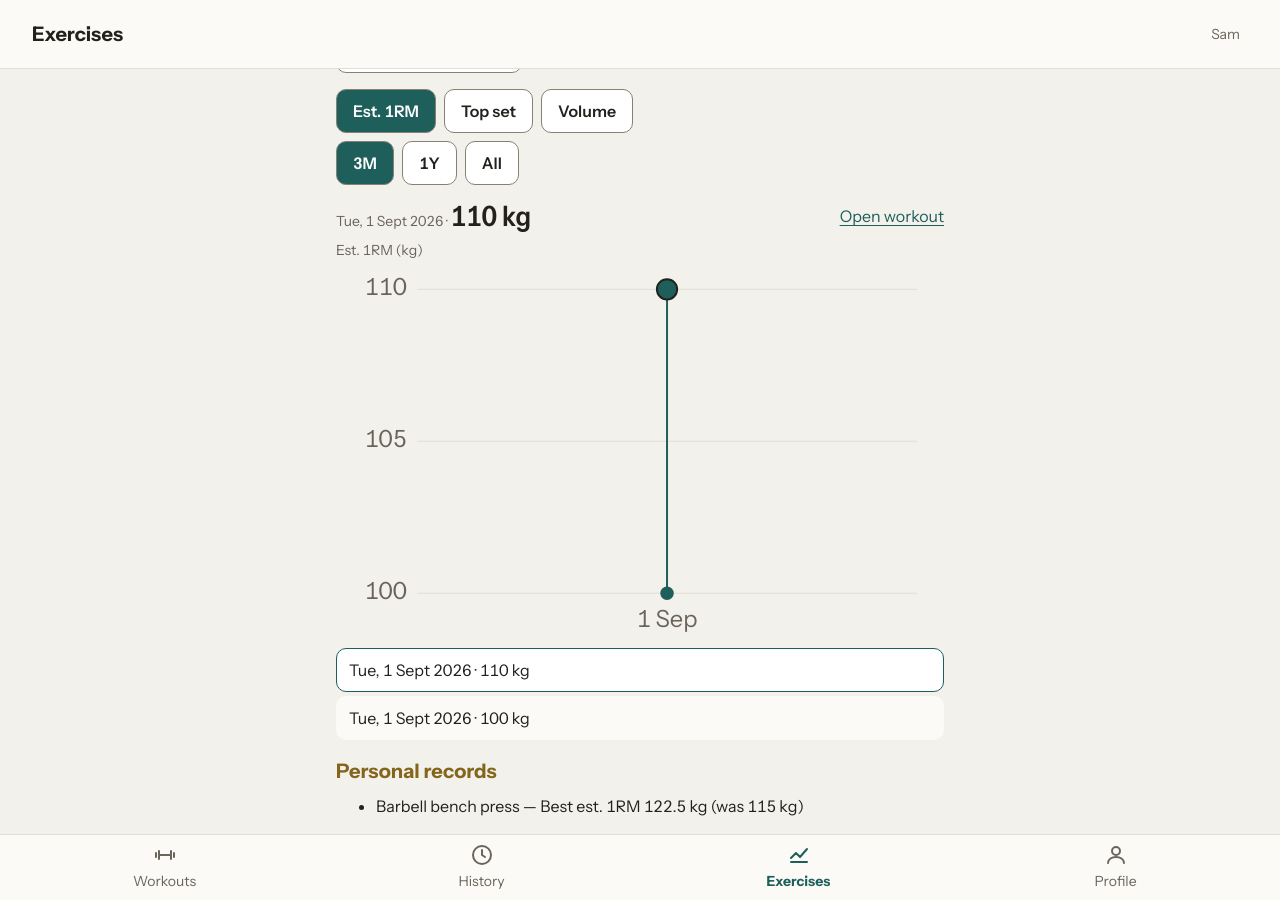
it: 08.1 AC18 / 18.2 AC23 — the sessions list › two sessions on the same date are both listed and selectable (Review Focus 2)
This screenshot has width=1280, height=900.
(page scrolled)
Expected: the picture named "3 months" is shown, [336, 269, 944, 640]
Click the button "Tue, 1 Sept 2026 · 100 kg" at (410, 718), box [336, 696, 944, 740]
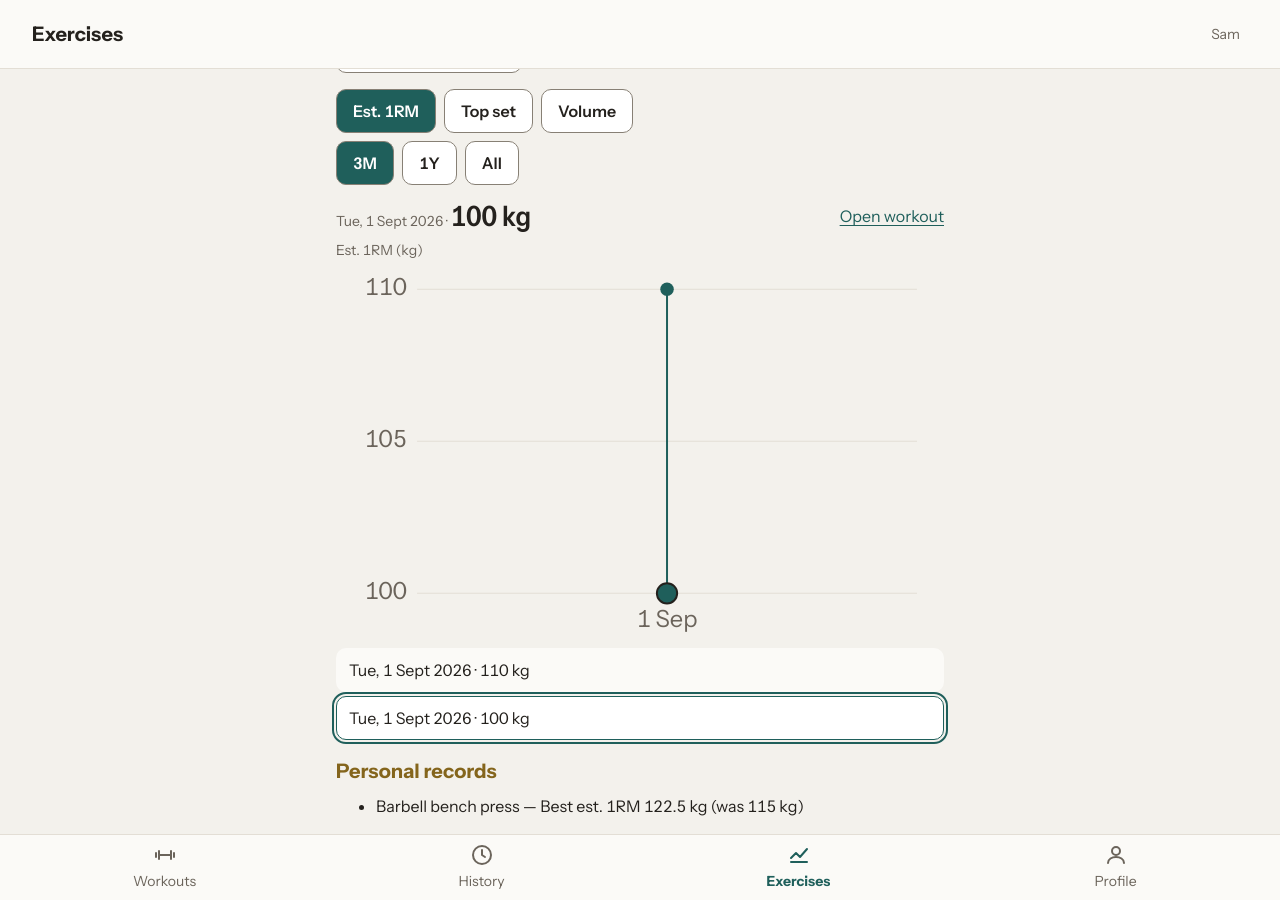
Now the element showing "Tue, 1 Sept 2026 · 100 kg" is shown, box [336, 201, 531, 232]
